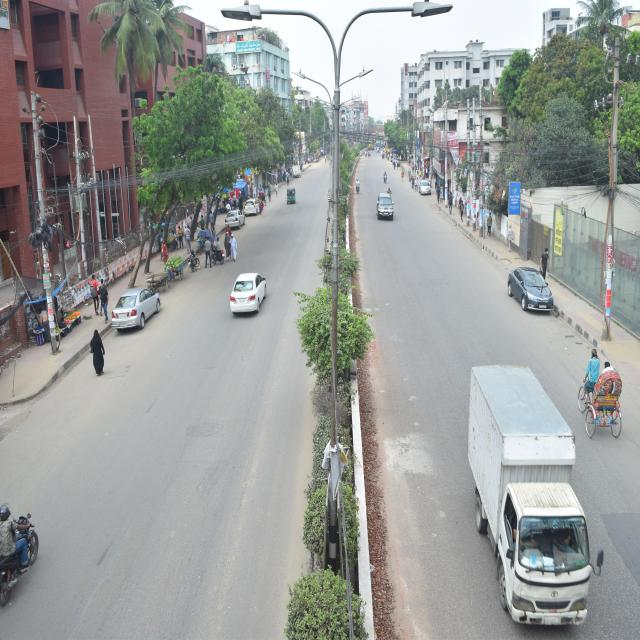car: (491, 236, 570, 336), (100, 269, 184, 348), (219, 252, 279, 330), (235, 179, 270, 226), (413, 169, 450, 210), (372, 187, 406, 230), (216, 202, 244, 241)
motorbike: (346, 169, 372, 206), (381, 163, 393, 184), (385, 180, 394, 197)
truck: (456, 342, 616, 620)
